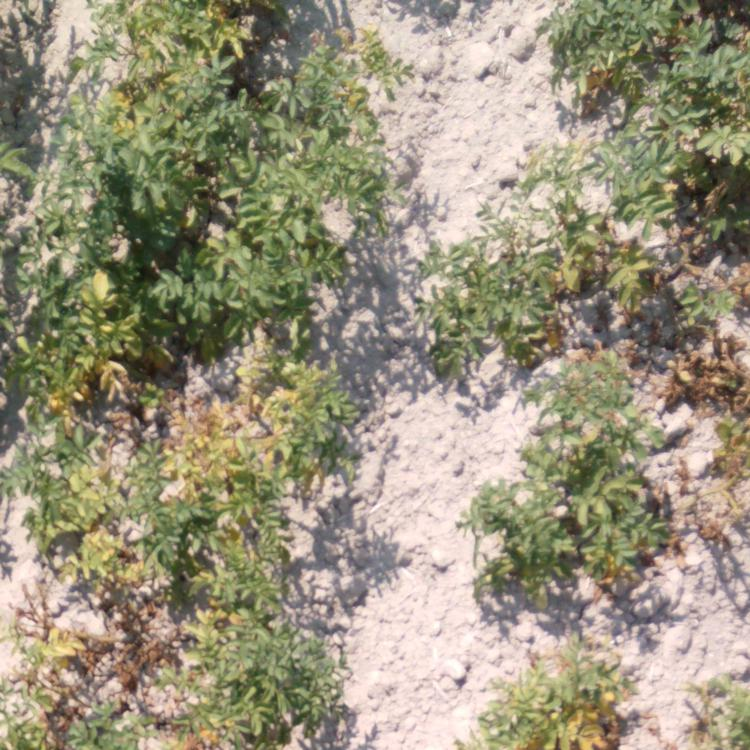healthy: (181, 163, 315, 330), (554, 1, 749, 99), (594, 107, 747, 198), (30, 162, 176, 237)
stressed: (6, 429, 148, 596), (83, 1, 238, 152), (551, 358, 651, 590), (178, 598, 330, 748), (1, 603, 158, 741), (3, 267, 141, 421), (432, 223, 563, 352), (477, 637, 623, 750), (163, 465, 279, 583), (241, 345, 344, 466), (298, 20, 388, 152), (573, 203, 669, 294), (474, 480, 528, 589), (689, 657, 749, 750), (673, 330, 750, 402), (155, 394, 233, 455)
